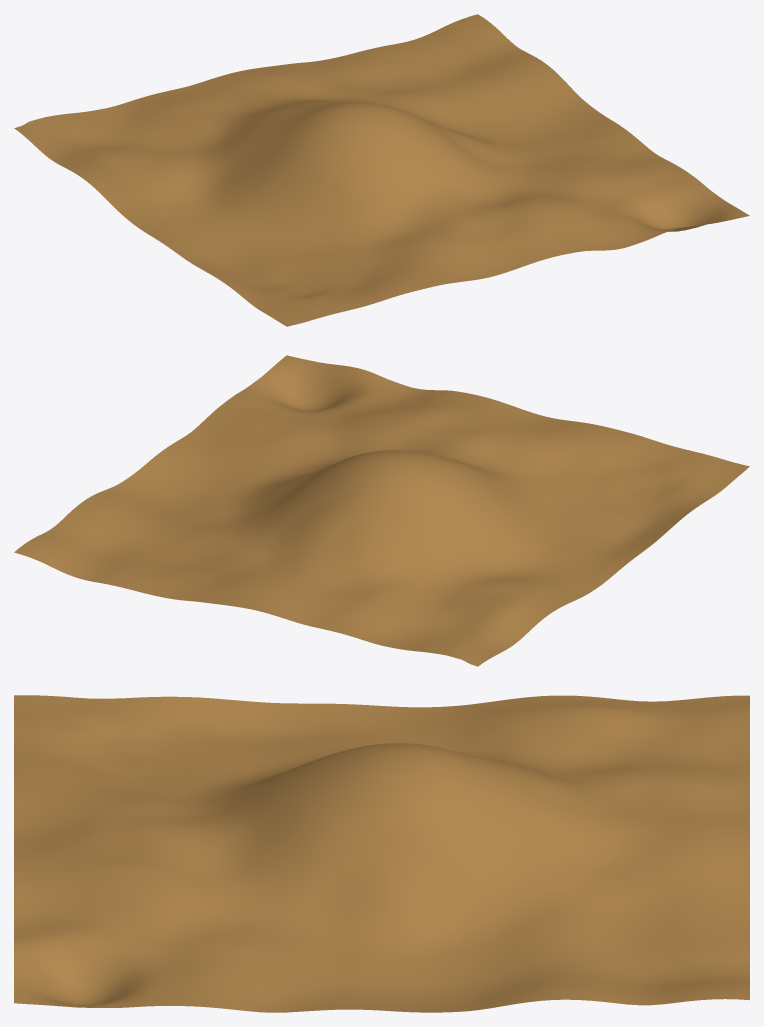
File: terre_bosse_pos2.fbx
The picture shows the model from 3 angles, top to bottom: view 1: azimuth 30°, elevation 25°; view 2: azimuth 150°, elevation 25°; view 3: azimuth 270°, elevation 25°; orthographic projection. The views are drawn at different scales.
Parts seen in each view (by area): view 1: terre_bosse_pos2; view 2: terre_bosse_pos2; view 3: terre_bosse_pos2.
Boxes of the visible parts, x1,y1,x2,y2 form: terre_bosse_pos2: (14,14,749,326); terre_bosse_pos2: (14,355,749,666); terre_bosse_pos2: (14,695,749,1012).
Bounding box in the file's own units: 709 × 117 × 720.
